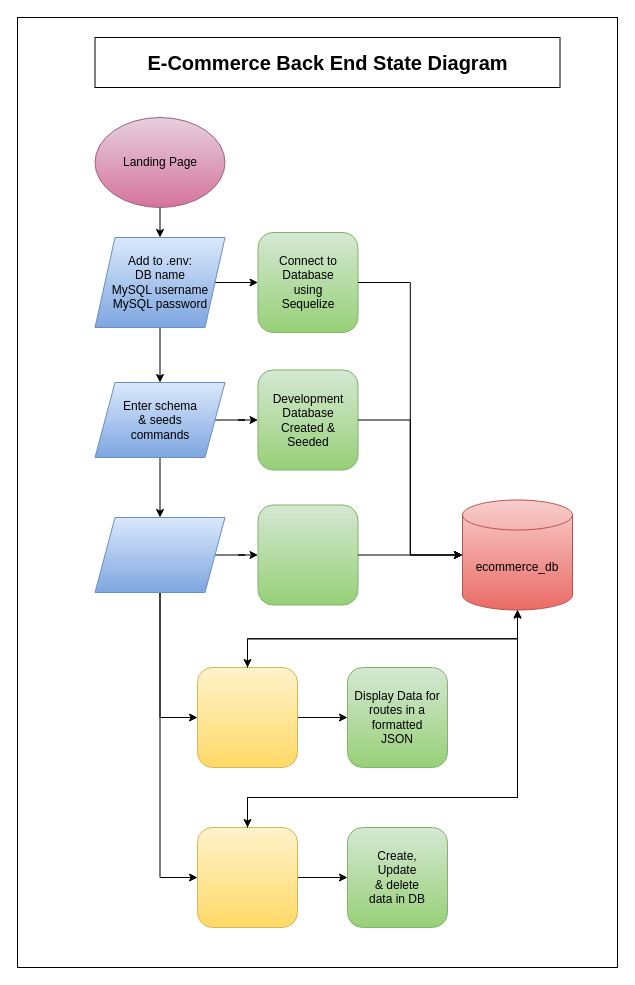
Image size: 635x985. Some labels were removed from this diagram. The centre of each missing label's shape, as x and y in pixels:
Enter command to invoke application: point 159,554
Open API GET routes: - Categories - Products - Tags: point 247,717
Server started Sequelize Models Sync to MySQL: point 307,554
Test API POST, PUT & DELETE routes: point 247,877
